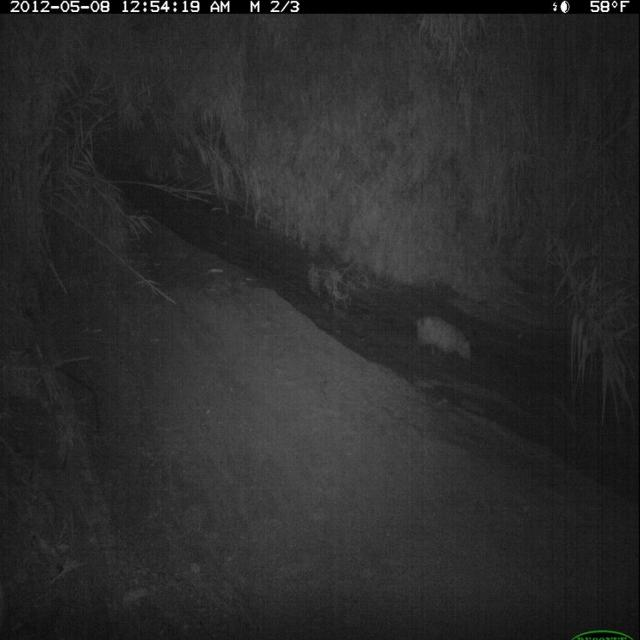opossum: (411, 309, 475, 366)
